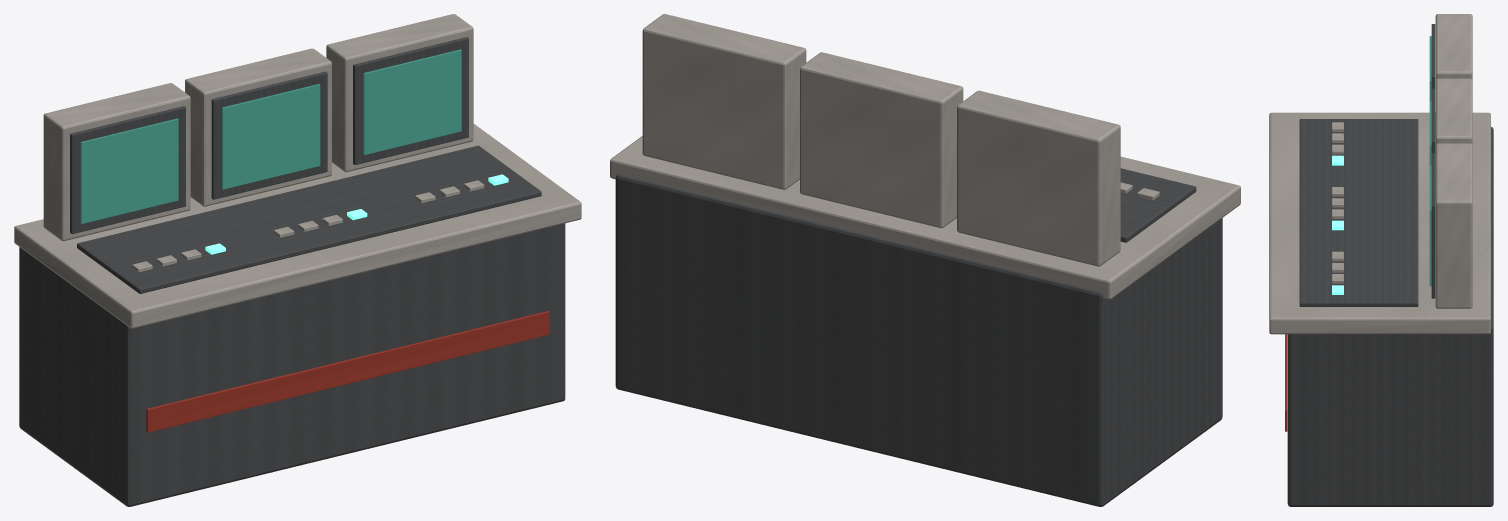
File: control_desk.glb
3 views of the same model, side by side, from view 1: azimuth 30°, elevation 25°; view 2: azimuth 150°, elevation 25°; view 3: azimuth 270°, elevation 25° (orthographic). The views are drawn at different scales.
Visible parts, largest first — view 1: console_body.001, control_panel.002, console_top.001, front_red_band.001, monitor_screen_02, monitor_screen_00, monitor_screen_01, monitor_housing.003, monitor_housing.004, monitor_housing.005, monitor_bezel.001, monitor_bezel (+1 smaller); view 2: console_body.001, monitor_housing.003, monitor_housing.005, monitor_housing.004, console_top.001, control_panel.002; view 3: console_body.001, control_panel.002, console_top.001, monitor_housing.005, monitor_housing.004, monitor_housing.003, monitor_bezel.002, monitor_screen_02, monitor_bezel.001, monitor_bezel, front_red_band.001.
Part boxes in pixels (x1,y1,x2,y2): console_body.001: (19,223,565,506); control_panel.002: (77,145,541,293); console_top.001: (14,124,581,328); front_red_band.001: (146,311,549,432); monitor_screen_02: (363,49,461,154); monitor_screen_00: (80,118,178,223); monitor_screen_01: (222,84,320,189); monitor_housing.003: (43,83,190,241); monitor_housing.004: (185,48,331,206); monitor_housing.005: (326,14,473,172); monitor_bezel.001: (211,71,327,199); monitor_bezel: (70,106,185,234); console_body.001: (615,174,1222,506); monitor_housing.003: (957,90,1120,266); monitor_housing.005: (642,14,806,189); monitor_housing.004: (800,52,963,228); console_top.001: (610,136,1240,299); control_panel.002: (1120,168,1196,242); console_body.001: (1287,127,1493,506); control_panel.002: (1299,119,1418,306); console_top.001: (1269,112,1490,334); monitor_housing.005: (1435,143,1472,308); monitor_housing.004: (1435,78,1472,144); monitor_housing.003: (1435,14,1472,79); monitor_bezel.002: (1431,153,1435,298); monitor_screen_02: (1429,165,1431,286); monitor_bezel.001: (1431,88,1435,153); monitor_bezel: (1431,24,1435,88); front_red_band.001: (1285,334,1287,431).
Size of the model in its own units: 1.85 by 1.25 by 0.85.
Materials: 5 (3 with a texture image).
